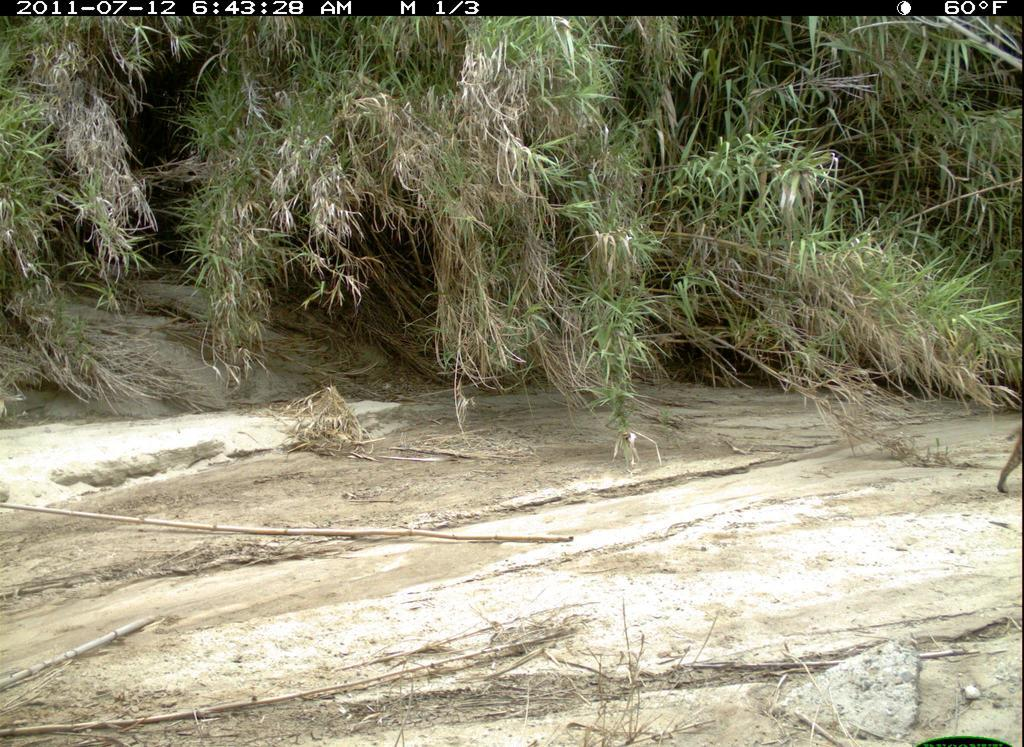bobcat: (994, 408, 1023, 505)
